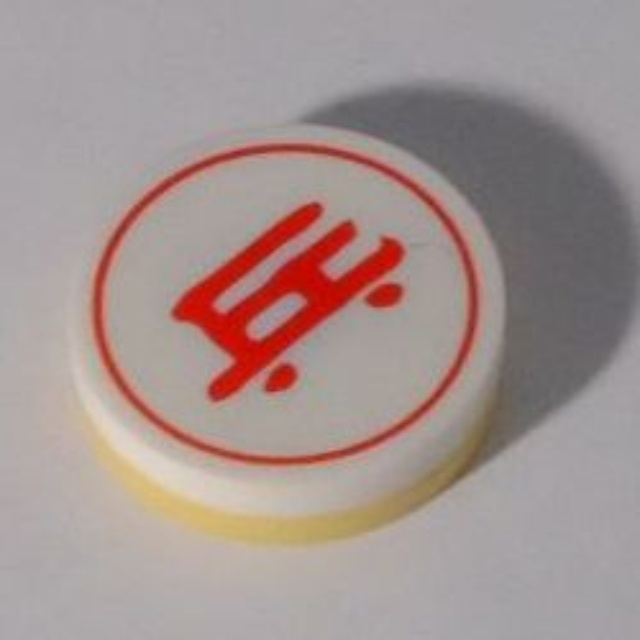red_chot: (60, 115, 520, 536)
